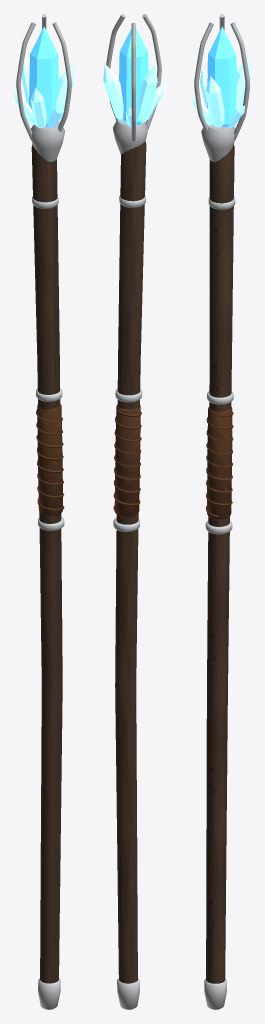
File: crystal-staff.glb
3 views of the same model, side by side, from view 1: azimuth 30°, elevation 25°; view 2: azimuth 210°, elevation 25°; view 3: azimuth 270°, elevation 25° (orthographic).
Visible parts, largest first — view 1: Crystal_Staff; view 2: Crystal_Staff; view 3: Crystal_Staff.
Part boxes in pixels (left/top/right/bottom): Crystal_Staff: left=14, top=14, right=74, bottom=1009; Crystal_Staff: left=103, top=14, right=163, bottom=1009; Crystal_Staff: left=192, top=14, right=250, bottom=1009.
Size of the model in its own units: 0.1011 by 1.84 by 0.0986.
Materials: 5 (2 with a texture image).
